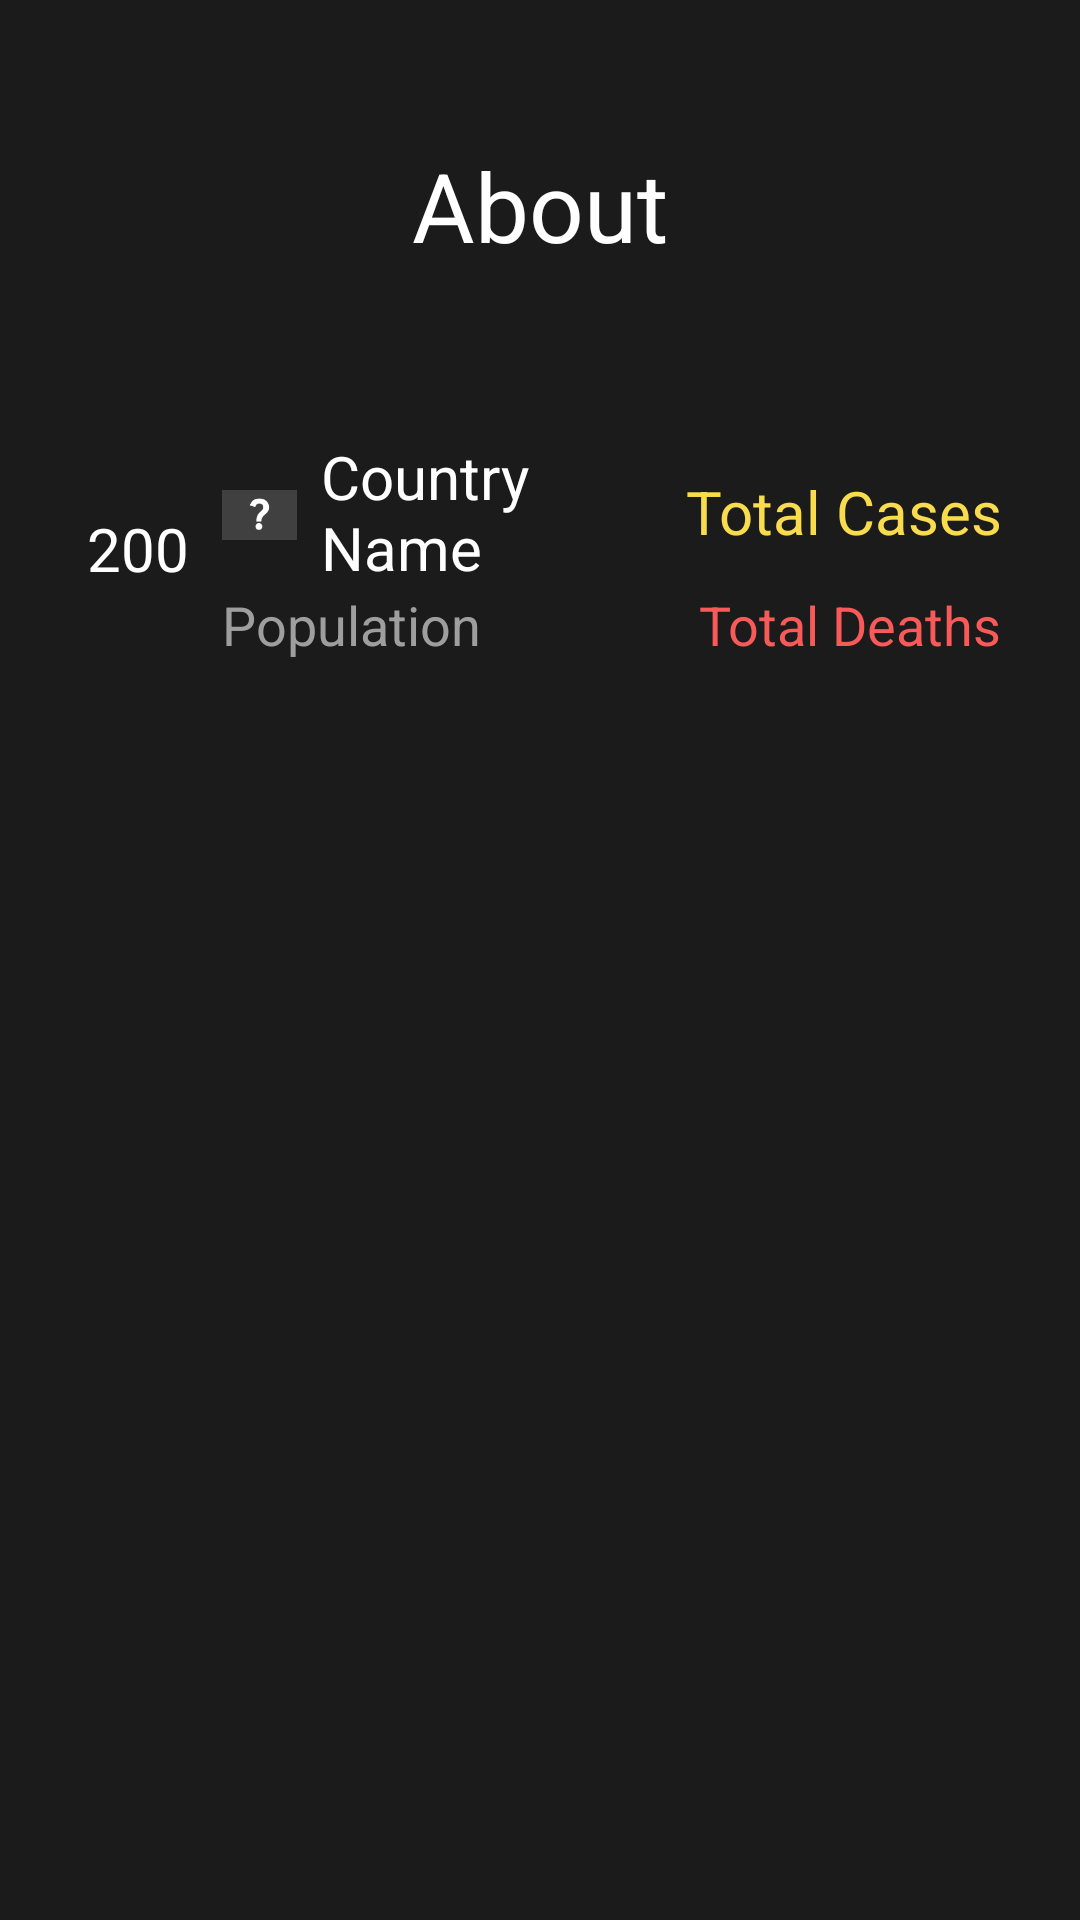

Locate icon controls on the screen. Image size 1080 × 1920, boxes as (x1, y1, x2, y2).
resource null flag: (222, 490, 297, 540)
